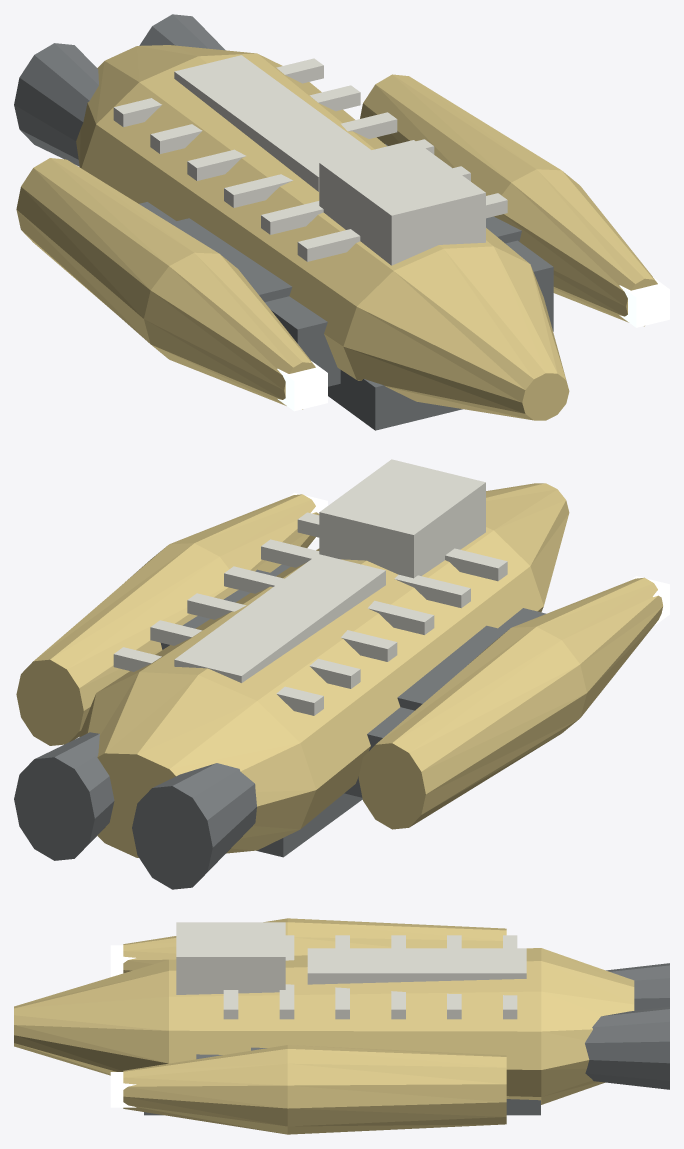
3 views of the same model, one above another, from view 1: azimuth 30°, elevation 25°; view 2: azimuth 150°, elevation 25°; view 3: azimuth 270°, elevation 25° (orthographic). The views are drawn at different scales.
Size of the model in its own units: 4.68 by 2.03 by 7.91.
